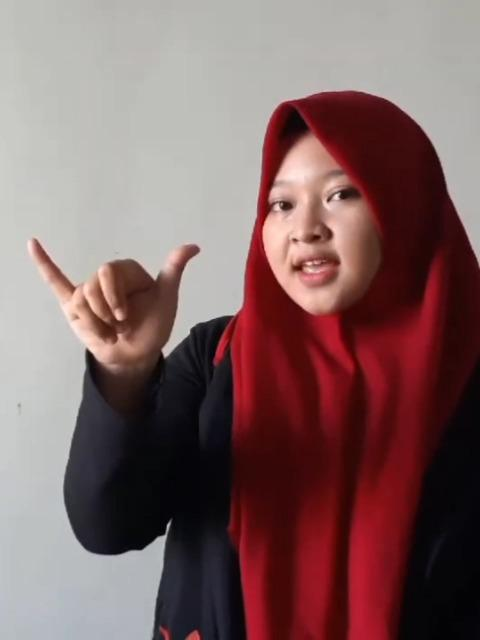Y: (22, 230, 210, 382)
